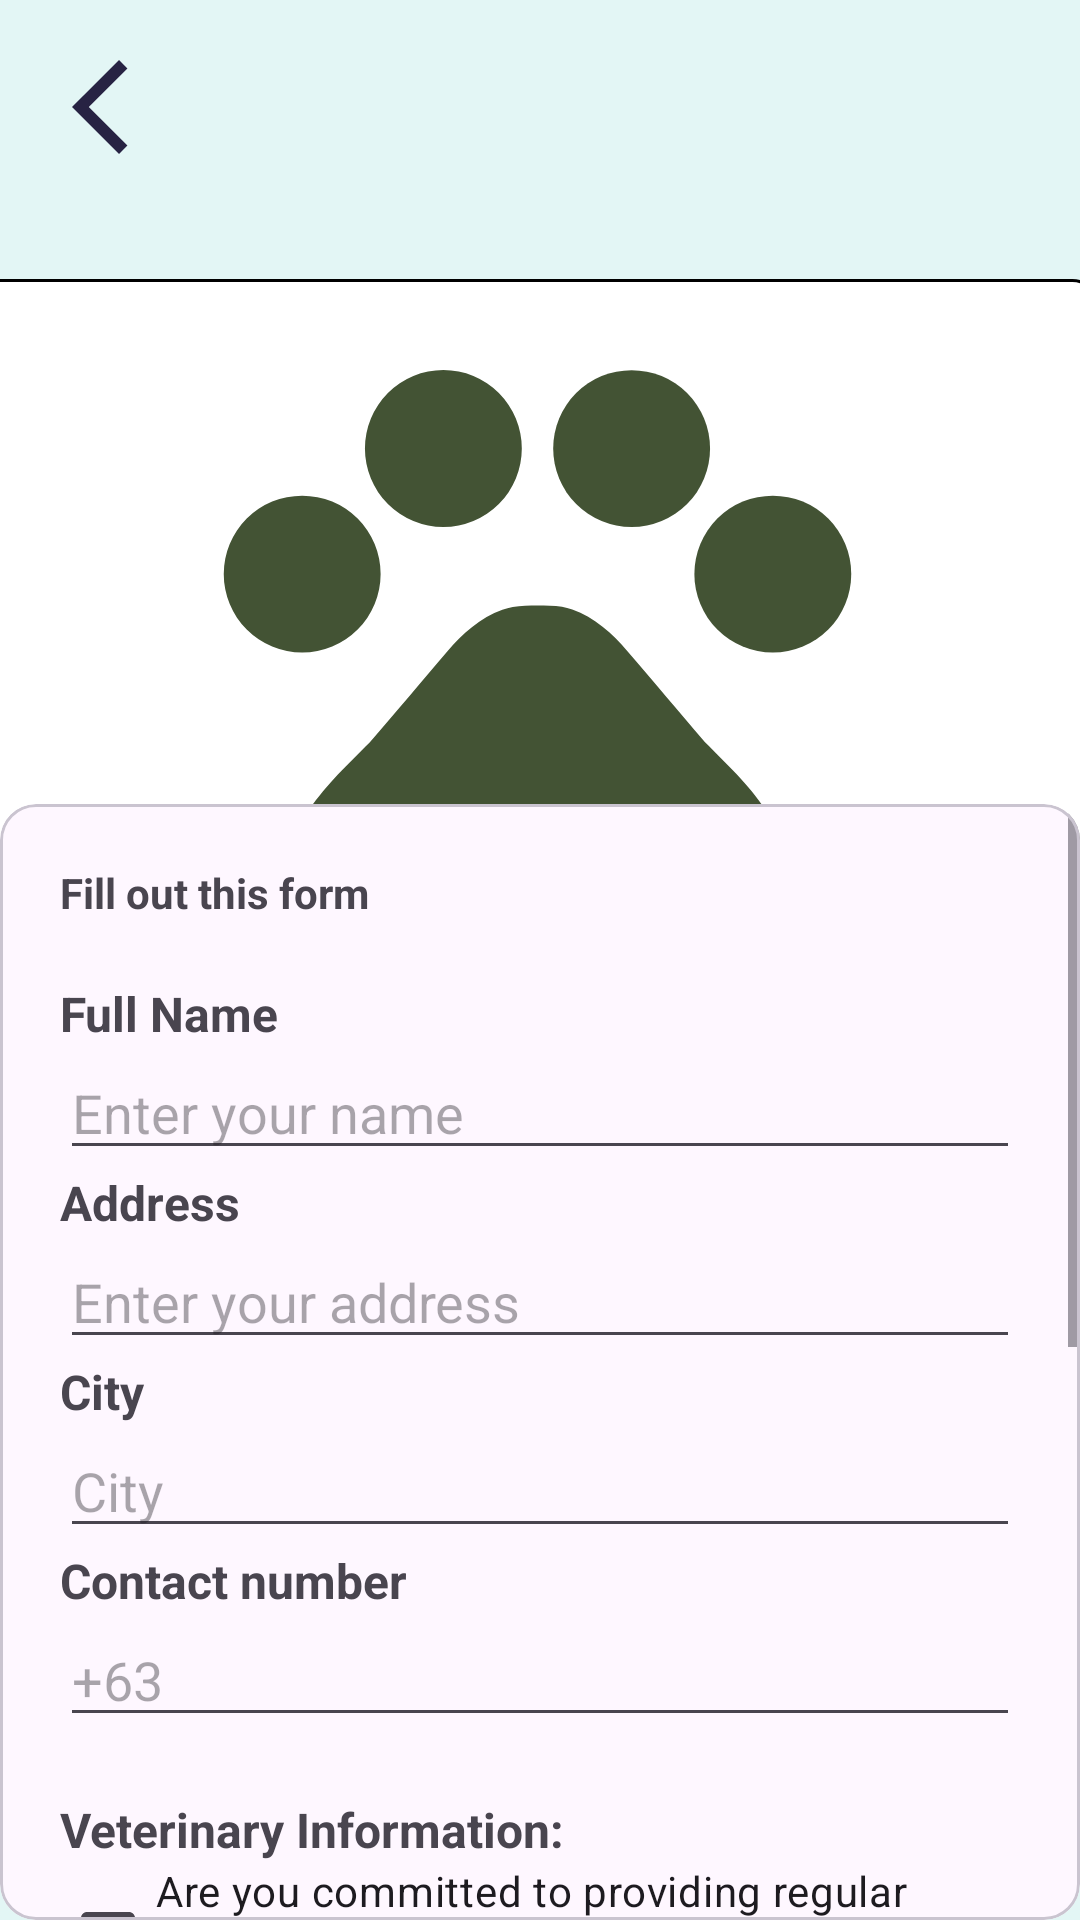

Icons on this 1080 × 1920 Android screen, each with its box as (x1, y1, x2, y2):
arrow pet info: (72, 60, 128, 154)
